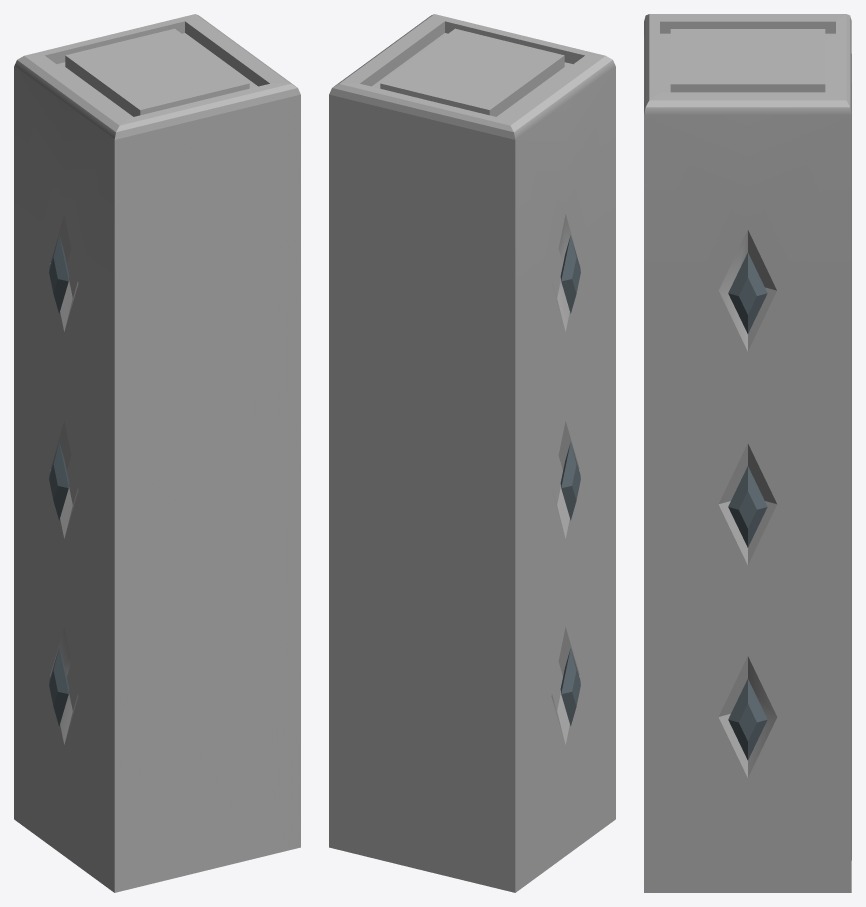
Rendered from Pillar03.fbx.
3 views of the same model, side by side, from view 1: azimuth 30°, elevation 25°; view 2: azimuth 150°, elevation 25°; view 3: azimuth 270°, elevation 25° (orthographic). The views are drawn at different scales.
Visible parts, largest first — view 1: Pillar03; view 2: Pillar03; view 3: Pillar03.
Boxes of the visible parts, x1,y1,x2,y2 form: Pillar03: [14, 14, 300, 892]; Pillar03: [329, 14, 615, 892]; Pillar03: [644, 14, 851, 892].
Size of the model in its own units: 135 by 473 by 113.
